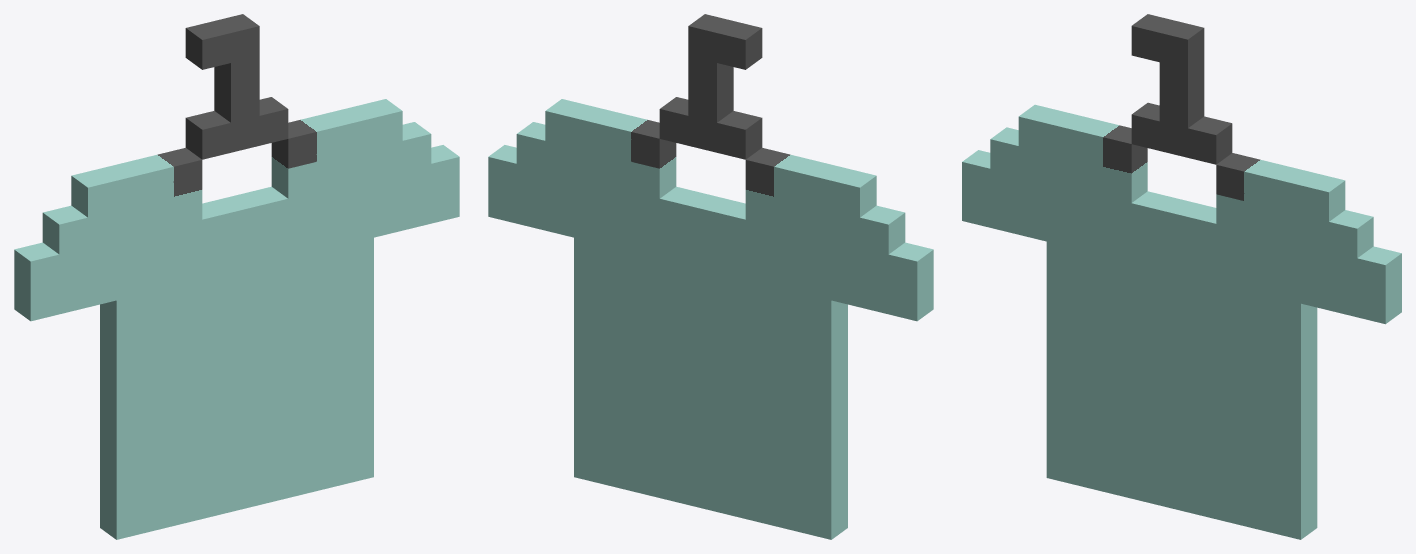
Rendered from koszulka2.dae.
The picture shows the model from 3 angles, left to right: view 1: azimuth 30°, elevation 25°; view 2: azimuth 150°, elevation 25°; view 3: azimuth 330°, elevation 25°; orthographic projection.
Parts seen in each view (by area): view 1: koszulka3; view 2: koszulka3; view 3: koszulka3.
Boxes of the visible parts, box(x1,y1,x2,y2) form: koszulka3: box(14, 14, 459, 539); koszulka3: box(488, 14, 933, 539); koszulka3: box(962, 14, 1401, 539).
Bounding box in the file's own units: 15 × 16 × 1.
